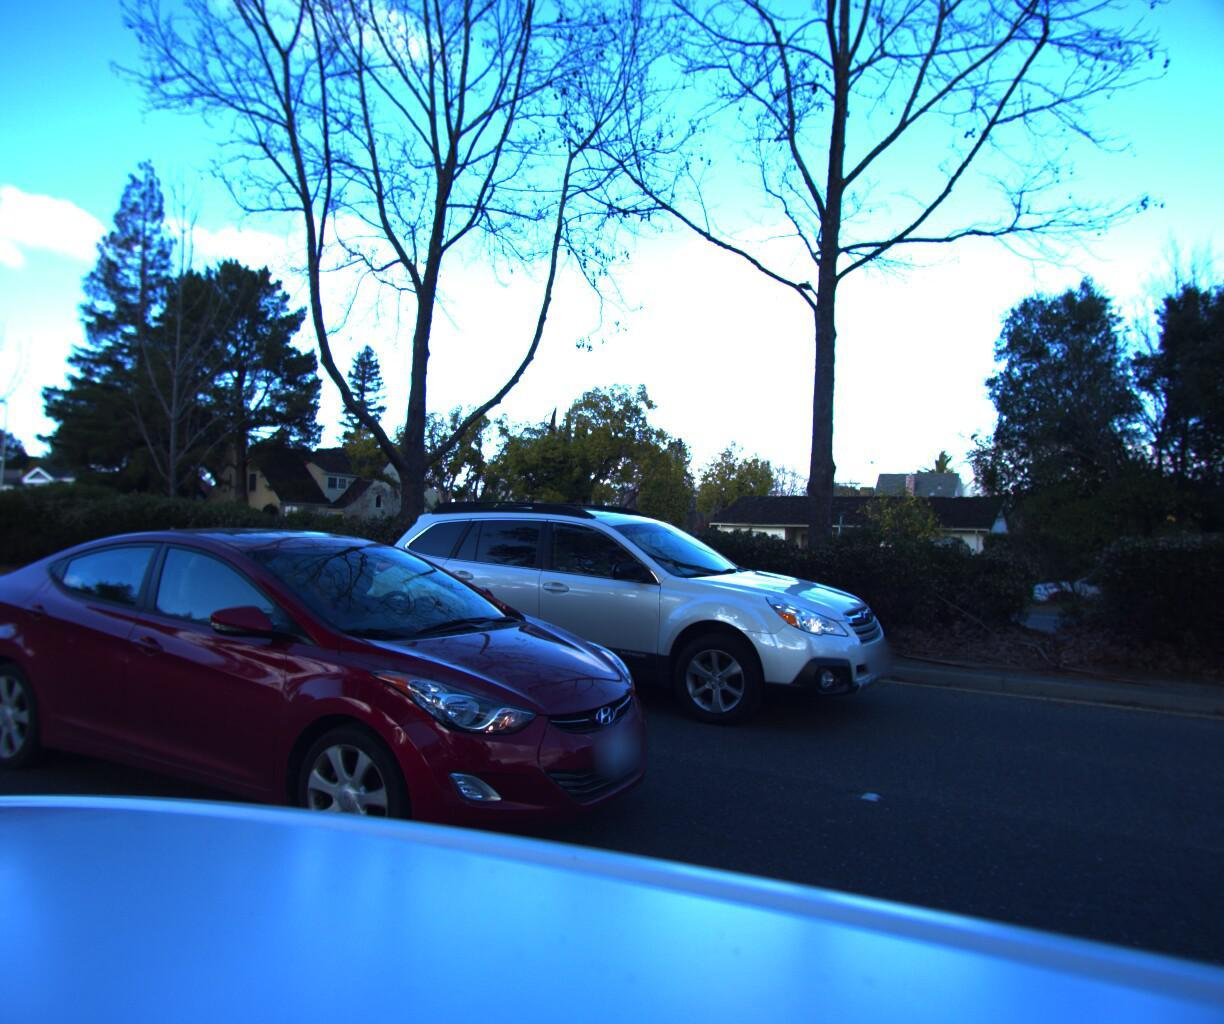car: (0, 515, 689, 954), (348, 491, 899, 757)
